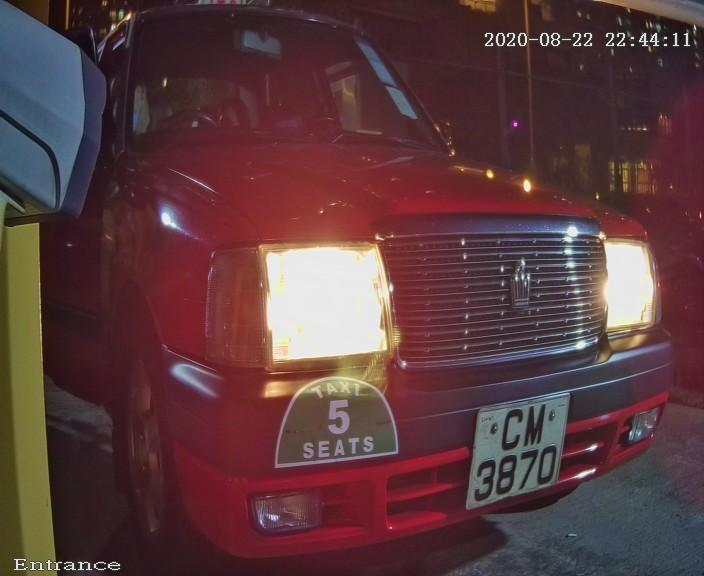License Plate: (435, 371, 588, 534)
